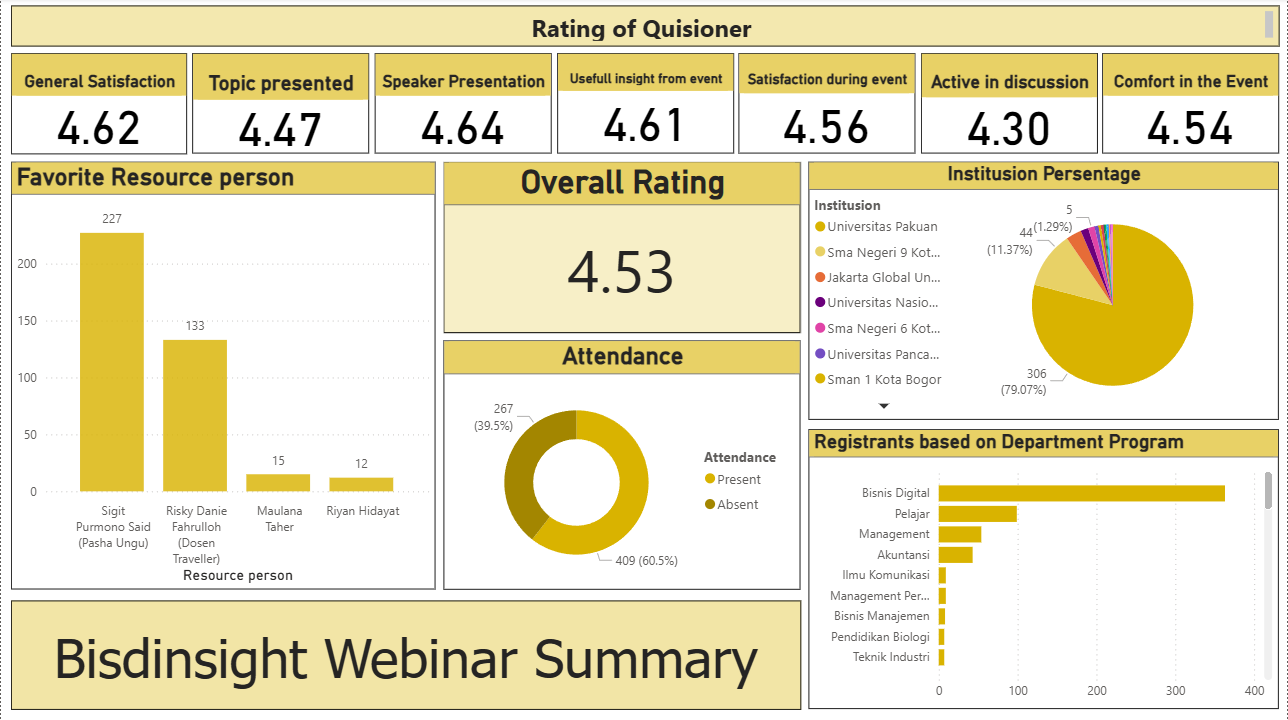

The page's visual inventory and layout, read from the dashboard file:
{"tool":"powerbi","page":{"name":"Page 1","canvas":[1280,720],"ordinal":0},"visuals":[{"type":"card","title":"Comfort in the Event","fields":{"Values":["Form_Responses.Comfort of the event"]},"box":[1096.4,55.2,175.6,100.2],"z":0},{"type":"card","title":"Active in discussion","fields":{"Values":["Form_Responses.Active in Discussions"]},"box":[915.3,55.2,175.6,100.2],"z":1000},{"type":"card","title":"General Satisfaction","fields":{"Values":["Form_Responses.General Satisfaction"]},"box":[10,54.7,175.4,100.8],"z":2000},{"type":"card","title":"Satisfaction during event","fields":{"Values":["Form_Responses.Satisfaction during the event"]},"box":[734.1,55.2,175.6,100.2],"z":3000},{"type":"card","title":"Speaker Presentation","fields":{"Values":["Form_Responses.Speaker presentation"]},"box":[371.9,55.2,175.6,100.2],"z":4000},{"type":"card","title":"Topic presented","fields":{"Values":["Form_Responses.Topic presented"]},"box":[190.7,55.2,175.6,100.2],"z":5000},{"type":"card","title":"Usefull insight from event","fields":{"Values":["Form_Responses.Useful insights from event"]},"box":[553,55.2,175.6,100.2],"z":6000},{"type":"columnChart","title":"Favorite Resource person ","fields":{"Category":["Form_Responses.Resource person "],"Y":["Form_Responses.Name"]},"box":[9.6,163.3,422.6,425.4],"z":7000},{"type":"pieChart","title":"Institusion Persentage","fields":{"Category":["Form_Responses.Institusion"],"Y":["Form_Responses.Name"]},"box":[804.1,163.3,467.9,256.6],"z":8000},{"type":"donutChart","title":"Attendance","fields":{"Y":["registrant.Attendance"],"Category":["registrant.Attendance"]},"box":[440.5,340.3,355.4,248.4],"z":9000},{"type":"clusteredBarChart","title":"Registrants based on Department Program","fields":{"Category":["registrant.Department Program"],"Y":["registrant.Name"]},"box":[804.1,429.5,467.9,278.6],"z":10000},{"type":"textbox","title":"Overall Rating","box":[440.5,163.3,355.4,170.2],"z":11000},{"type":"textbox","box":[9.6,6.9,1262.4,41.2],"z":12000},{"type":"textbox","box":[9.6,599.7,786.3,108.4],"z":13000}]}

Visuals, with their boxes in screenshot pixels (x1, y1, x2, y2), scaled from the page's 1280x720 canvas onto the 1288x720 screenshot:
"Comfort in the Event" card: [left=1103, top=55, right=1280, bottom=155]
"Active in discussion" card: [left=921, top=55, right=1098, bottom=155]
"General Satisfaction" card: [left=10, top=55, right=187, bottom=156]
"Satisfaction during event" card: [left=739, top=55, right=915, bottom=155]
"Speaker Presentation" card: [left=374, top=55, right=551, bottom=155]
"Topic presented" card: [left=192, top=55, right=369, bottom=155]
"Usefull insight from event" card: [left=556, top=55, right=733, bottom=155]
"Favorite Resource person " columnChart: [left=10, top=163, right=435, bottom=589]
"Institusion Persentage" pieChart: [left=809, top=163, right=1280, bottom=420]
"Attendance" donutChart: [left=443, top=340, right=801, bottom=589]
"Registrants based on Department Program" clusteredBarChart: [left=809, top=430, right=1280, bottom=708]
"Overall Rating" textbox: [left=443, top=163, right=801, bottom=334]
textbox: [left=10, top=7, right=1280, bottom=48]
textbox: [left=10, top=600, right=801, bottom=708]
